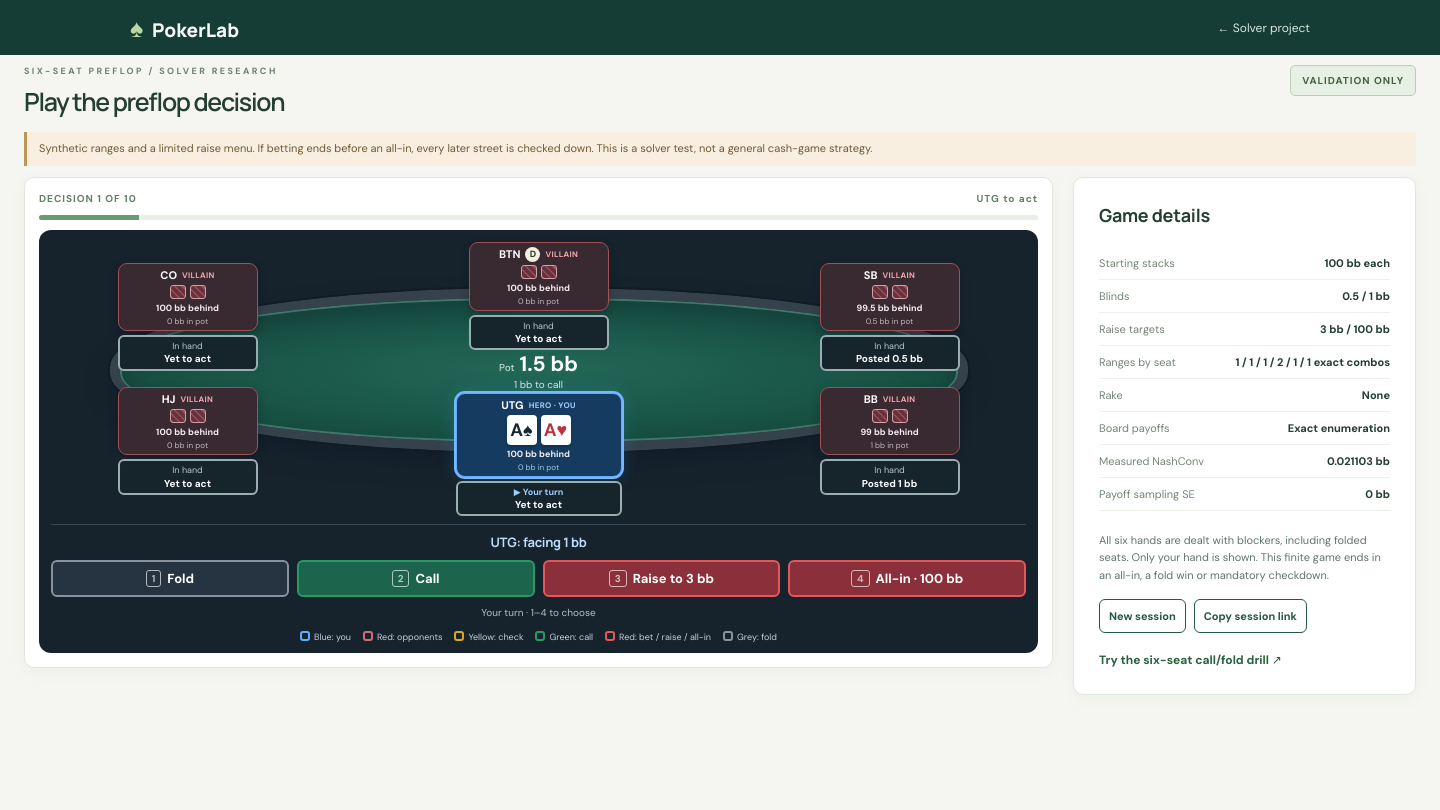
Test: keeps an unanswered decision available after a grading failure
The width and height of the screenshot is (1440, 810).
Check: the text "DECISION 1 OF 10" is shown, box [39,192,137,205]
Click the button "2 Call": (416, 578) [297,560,535,597]
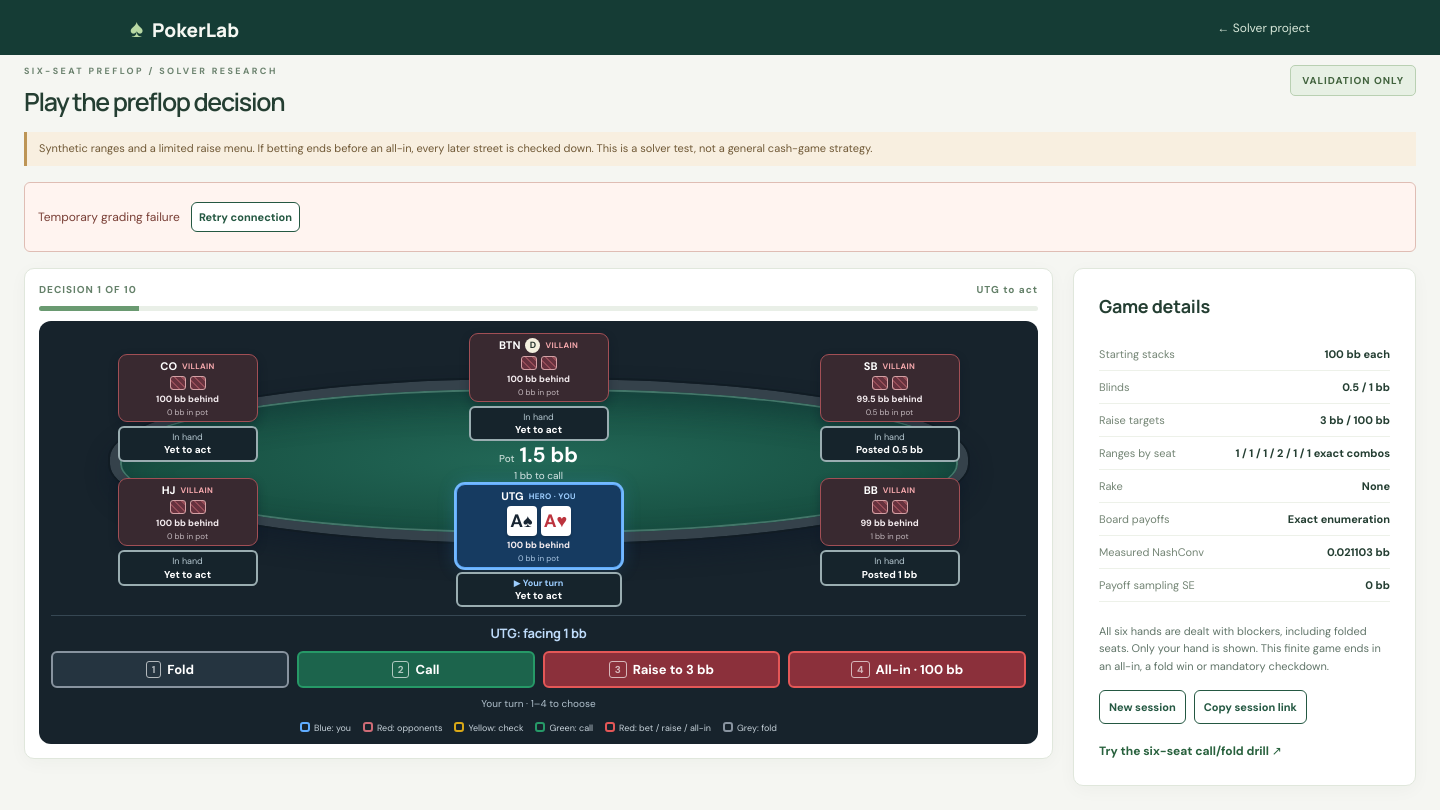
Check: the text "Decision feedback" is not shown
Check: the message "Temporary grading failure Retry connection" is shown, box [24,182,1416,252]
Click the button "2 Call": (416, 669) [297,651,535,688]
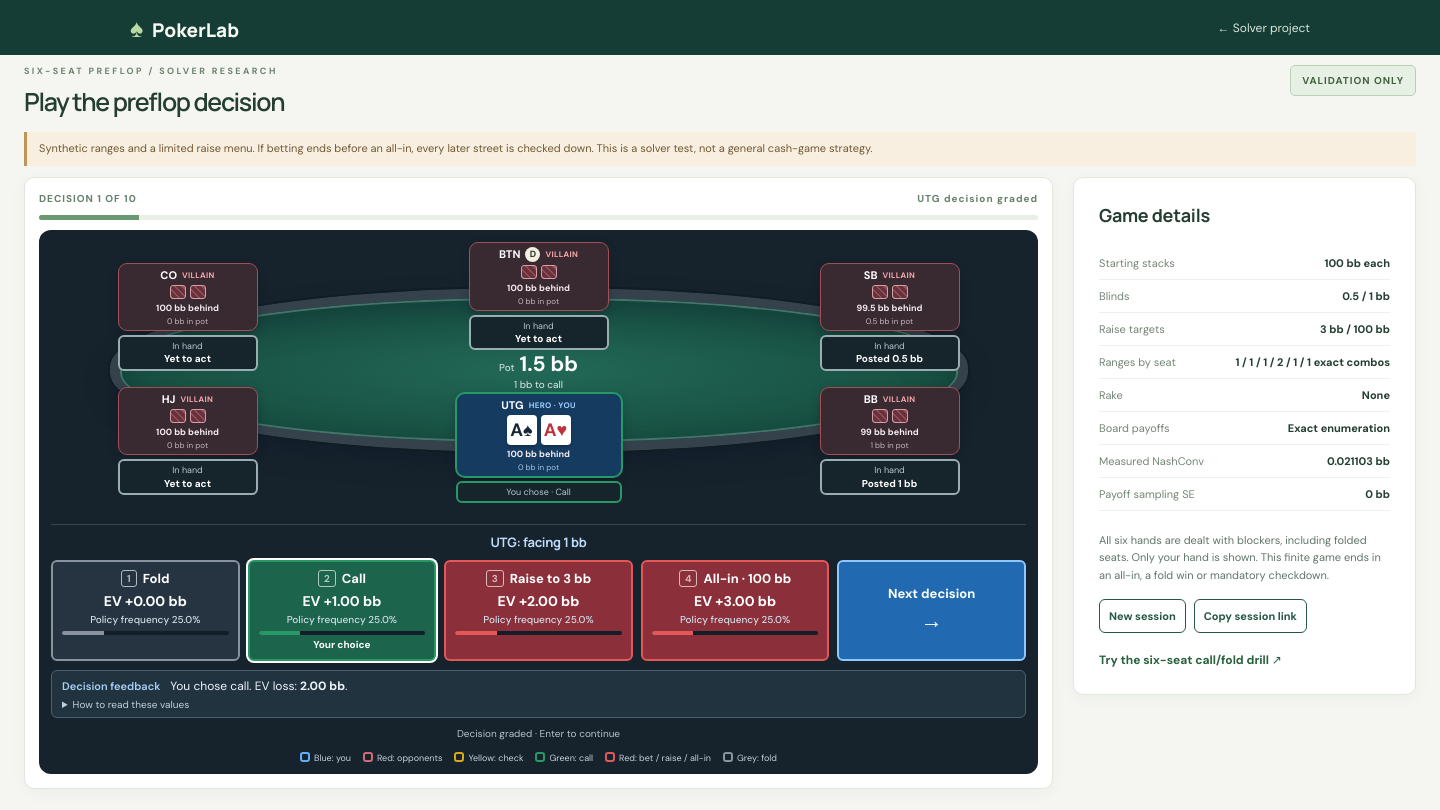
Check: the heading "Decision feedback" is shown, box [62,679,160,693]
Click the button "Next decision →": (932, 610) [837,560,1026,661]
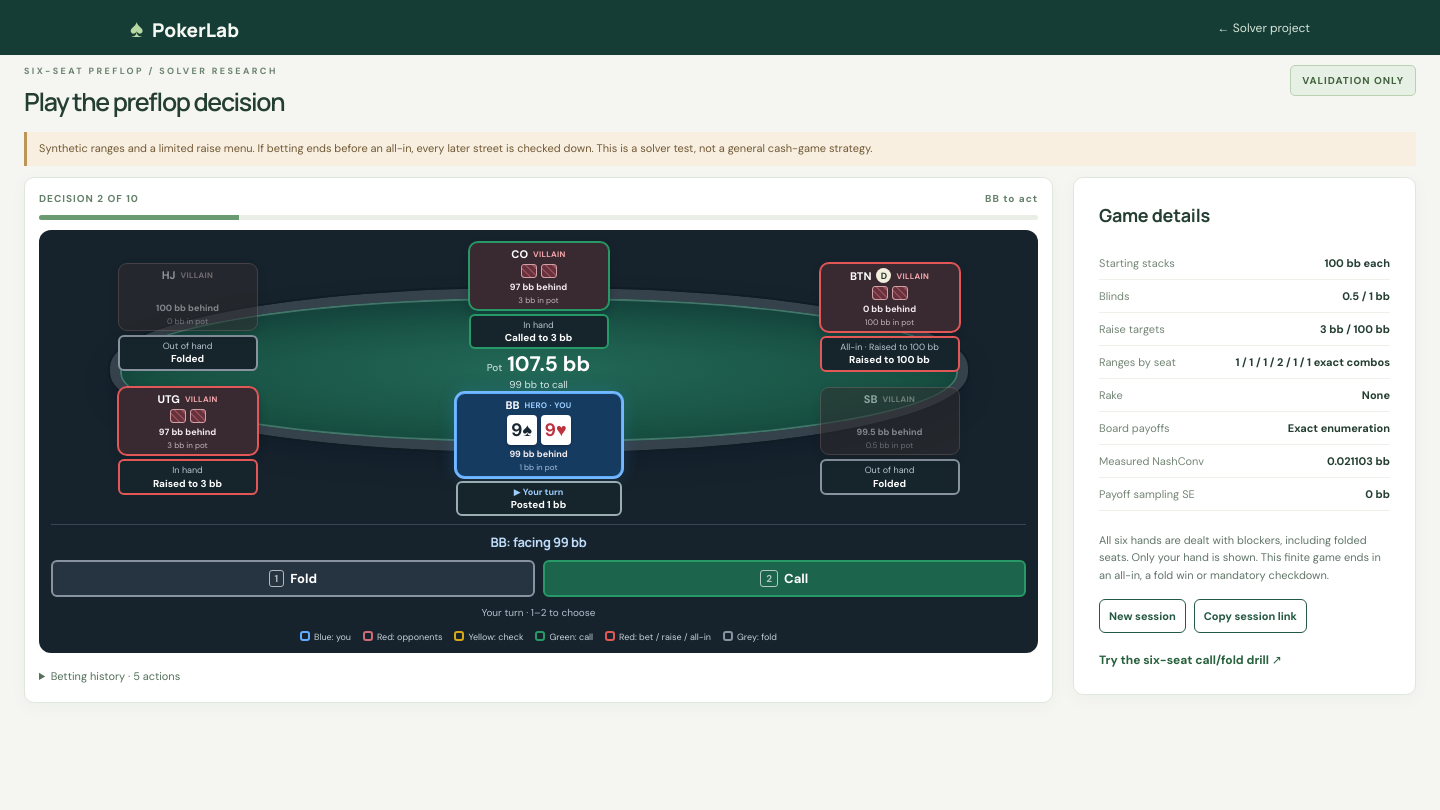
Check: the text "DECISION 2 OF 10" is shown, box [39,192,139,205]
